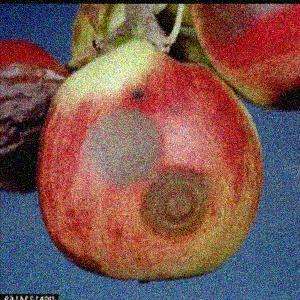rotten apple: (40, 39, 265, 282), (0, 35, 69, 193), (203, 4, 299, 112)
